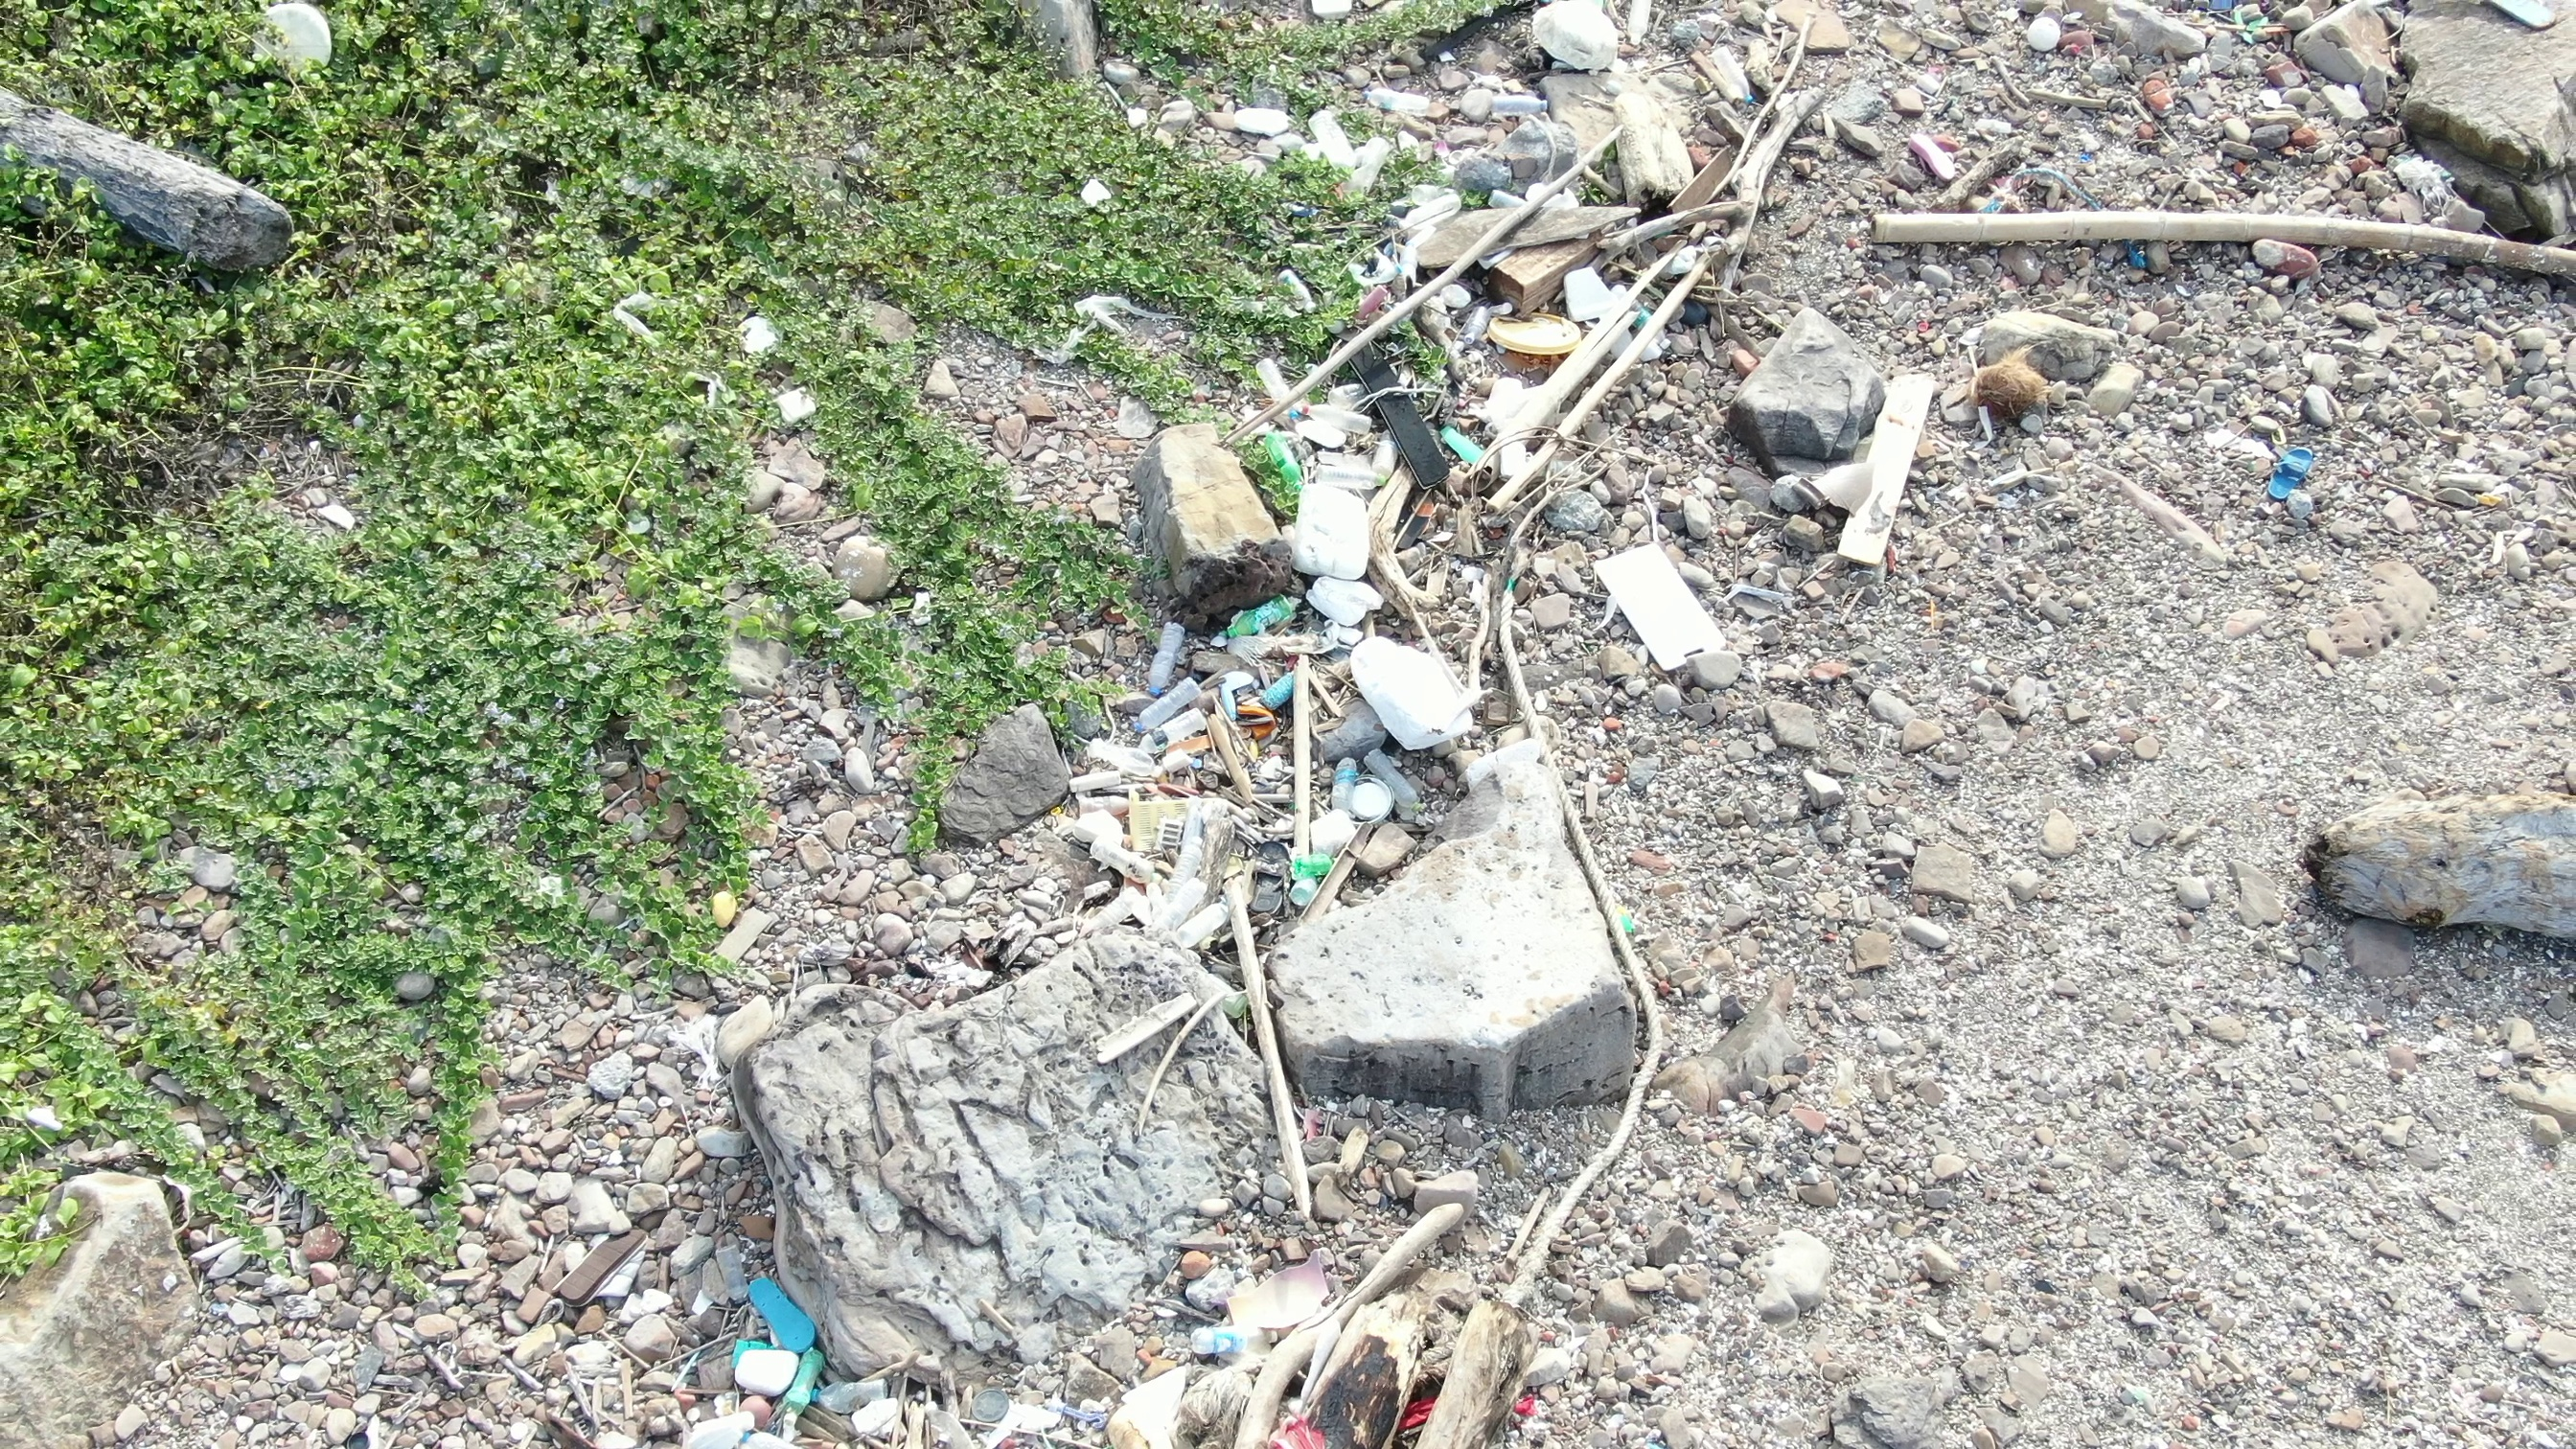bottle: (1221, 593, 1306, 648), (1139, 616, 1194, 701), (1483, 88, 1560, 126), (1329, 747, 1361, 812), (1286, 849, 1339, 888)
garbage: (1069, 25, 1792, 899), (711, 1260, 847, 1442), (253, 4, 343, 85), (2254, 441, 2321, 520), (2210, 4, 2286, 53)
